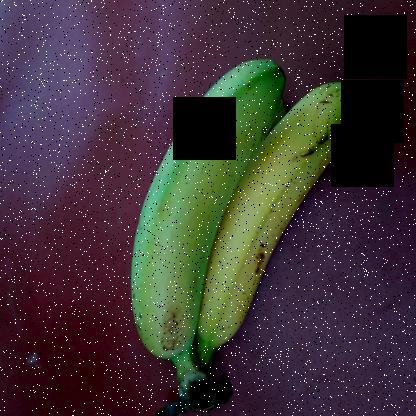freshripe: (129, 47, 289, 368)
ripe: (204, 73, 364, 373)
